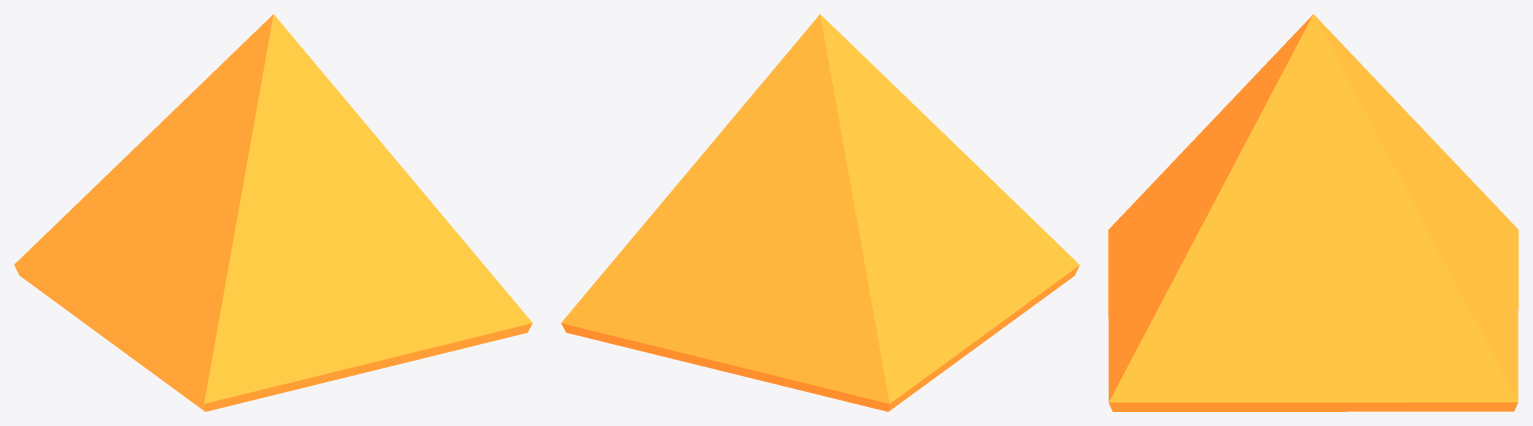
The model's file is outer_pyramid_top.glb.
3 views of the same model, side by side, from view 1: azimuth 30°, elevation 25°; view 2: azimuth 150°, elevation 25°; view 3: azimuth 270°, elevation 25° (orthographic). The views are drawn at different scales.
Parts seen in each view (by area): view 1: pyramid top; view 2: pyramid top; view 3: pyramid top.
Part boxes in pixels (box(x1,y1,x2,y2)): pyramid top: box(14, 14, 532, 411); pyramid top: box(561, 14, 1079, 411); pyramid top: box(1108, 14, 1518, 411).
Bounding box in the file's own units: 0.3801 × 0.3207 × 0.3803.
